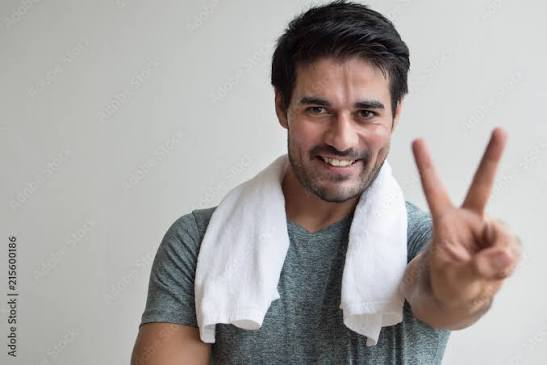peace_sign: (405, 122, 528, 312)
